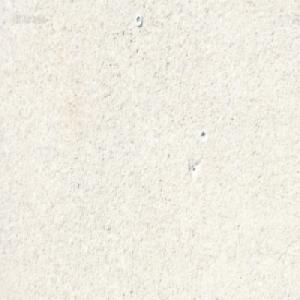Washer: (134, 14, 142, 28)
